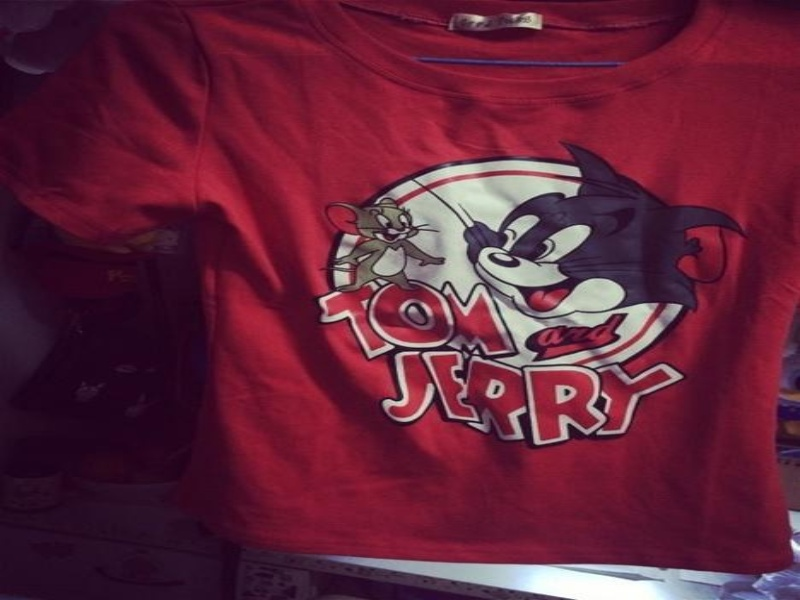short_sleeved_shirt: (0, 0, 798, 576)
